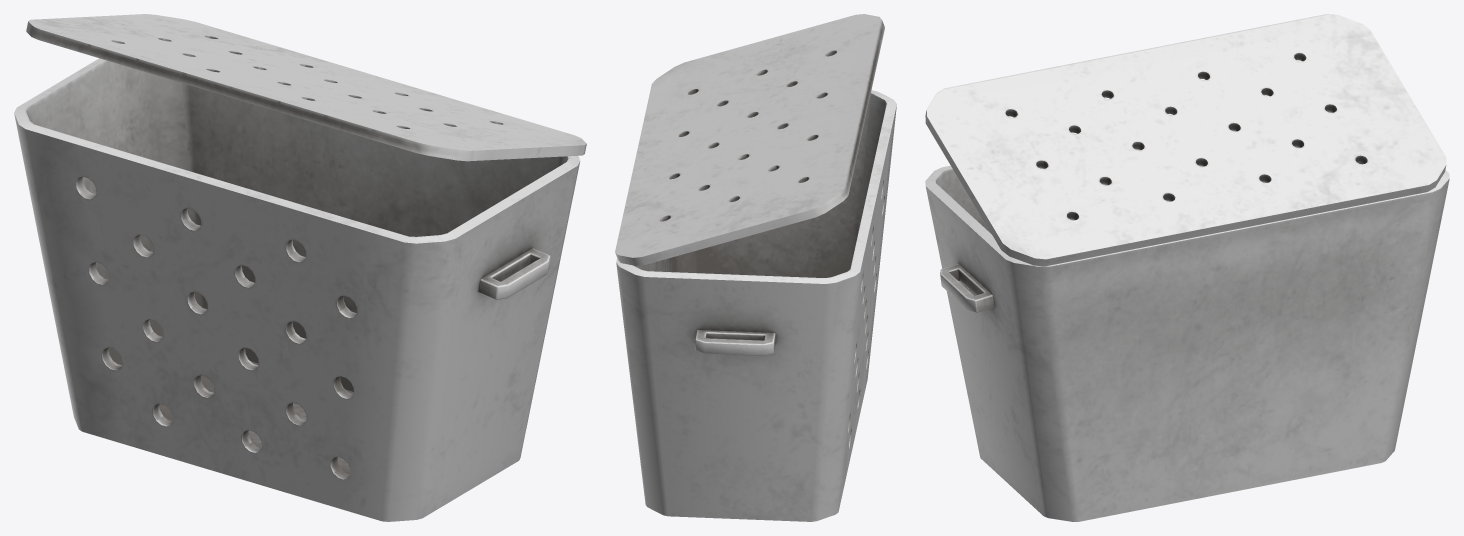
Rendered from Bathroom_Sepet.fbx.
3 views of the same model, side by side, from view 1: azimuth 30°, elevation 25°; view 2: azimuth 150°, elevation 25°; view 3: azimuth 270°, elevation 25° (orthographic). The views are drawn at different scales.
Parts seen in each view (by area): view 1: Plane.005, Plane.006, Plane.007; view 2: Plane.005, Plane.006, Plane.007; view 3: Plane.005, Plane.006, Plane.007.
Part boxes in pixels (bbox=[...]): Plane.005: bbox=[14, 58, 580, 521]; Plane.006: bbox=[26, 14, 586, 161]; Plane.007: bbox=[478, 248, 550, 299]; Plane.005: bbox=[616, 90, 896, 521]; Plane.006: bbox=[615, 14, 884, 265]; Plane.007: bbox=[695, 330, 775, 355]; Plane.005: bbox=[925, 111, 1449, 521]; Plane.006: bbox=[925, 14, 1446, 266]; Plane.007: bbox=[940, 263, 994, 312].
Size of the model in its own units: 85.64 by 81.65 by 108.
Materials: 1 (1 with a texture image).
